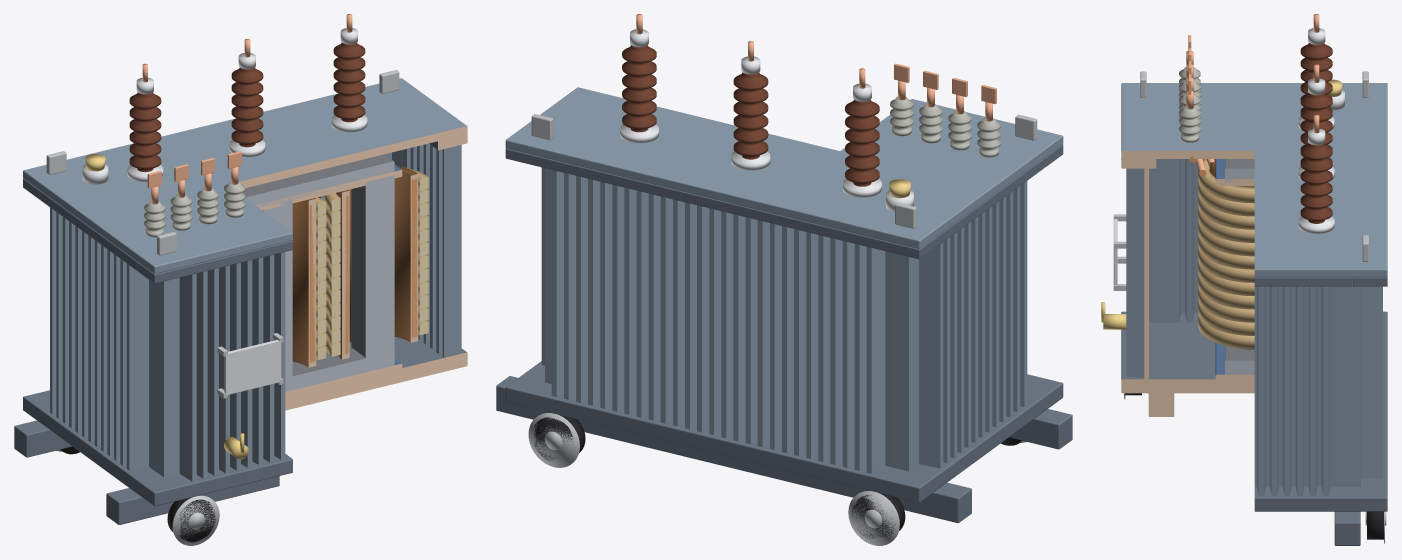
File: transformer-cut.glb
The picture shows the model from 3 angles, left to right: view 1: azimuth 30°, elevation 25°; view 2: azimuth 150°, elevation 25°; view 3: azimuth 270°, elevation 25°; orthographic projection. The views are drawn at different scales.
Parts seen in each view (by area): view 1: tank_wall, lid, base, limb.002, press.002, press.001, yoke_t, plate, bush_hv, bush_hv.001, bush_hv.002, beam (+15 smaller); view 2: tank_wall, lid, base, beam.001, rim_b, bush_hv.001, bush_hv.002, bush_hv, flange.001, flange.003, beam, rim_l (+6 smaller); view 3: tank_wall, lid, base, bush_hv.002, bush_hv, bush_hv.001, rim_r, hv.011, beam.001, yoke_b, hv.008, hv.009 (+18 smaller).
Part boxes in pixels (bbox=[...]): tank_wall: bbox=[50, 143, 461, 481]; lid: bbox=[23, 78, 467, 274]; base: bbox=[23, 337, 467, 506]; limb.002: bbox=[351, 175, 394, 358]; press.002: bbox=[336, 166, 418, 359]; press.001: bbox=[292, 198, 316, 367]; yoke_t: bbox=[243, 154, 394, 207]; plate: bbox=[224, 339, 281, 394]; bush_hv: bbox=[129, 92, 161, 172]; bush_hv.001: bbox=[231, 67, 263, 147]; bush_hv.002: bbox=[333, 42, 365, 122]; beam: bbox=[106, 476, 279, 524]; tank_wall: bbox=[541, 167, 1027, 473]; lid: bbox=[505, 87, 1063, 248]; base: bbox=[505, 361, 1063, 502]; beam.001: bbox=[496, 376, 971, 522]; rim_b: bbox=[505, 148, 938, 259]; bush_hv.001: bbox=[733, 72, 768, 159]; bush_hv.002: bbox=[622, 45, 656, 132]; bush_hv: bbox=[845, 99, 879, 186]; flange.001: bbox=[848, 491, 899, 545]; flange.003: bbox=[528, 413, 579, 467]; beam: bbox=[1009, 409, 1072, 449]; rim_l: bbox=[938, 158, 1044, 245]; tank_wall: bbox=[1126, 159, 1382, 495]; lid: bbox=[1121, 83, 1387, 277]; base: bbox=[1121, 311, 1387, 511]; bush_hv.002: bbox=[1300, 143, 1332, 223]; bush_hv: bbox=[1300, 43, 1332, 111]; bush_hv.001: bbox=[1300, 93, 1332, 161]; rim_r: bbox=[1254, 277, 1352, 286]; hv.011: bbox=[1198, 159, 1254, 203]; beam.001: bbox=[1334, 511, 1360, 545]; yoke_b: bbox=[1225, 346, 1254, 374]; hv.008: bbox=[1198, 208, 1254, 242]; hv.009: bbox=[1198, 194, 1254, 229].
Bounding box in the file's own units: 1.91 × 1.72 × 1.11.
